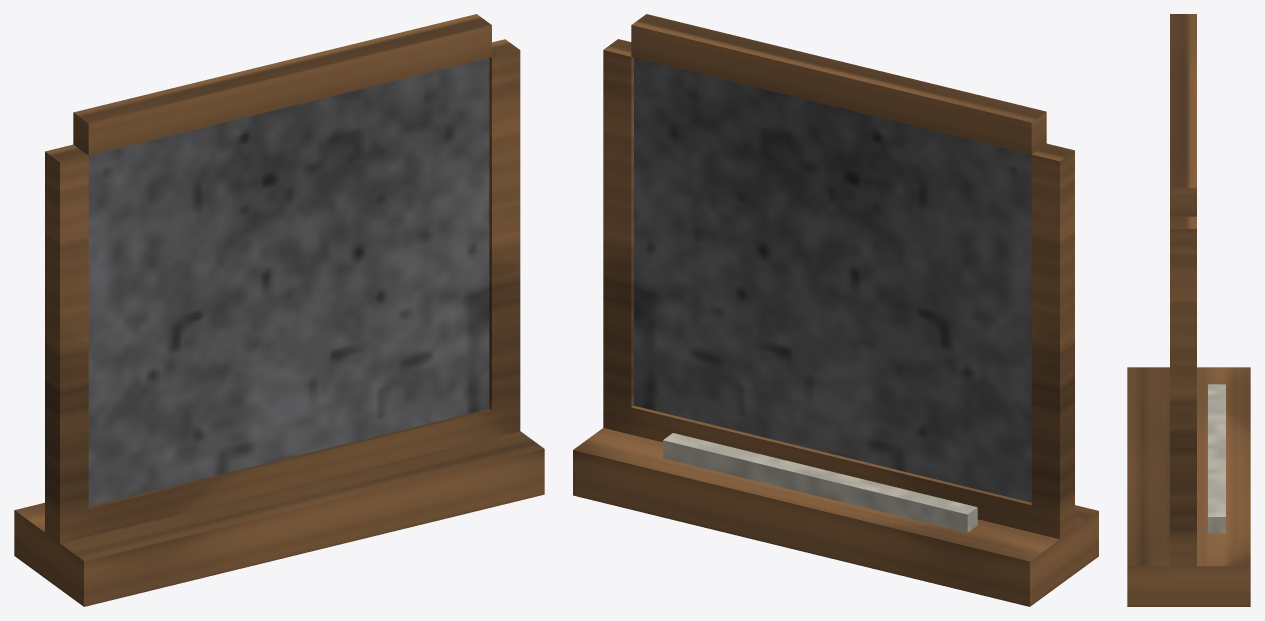
The model's file is school_slate.fbx.
3 renders of one model, left to right at view 1: azimuth 30°, elevation 25°; view 2: azimuth 150°, elevation 25°; view 3: azimuth 270°, elevation 25°, orthographic. The views are drawn at different scales.
Visible parts, largest first — view 1: school_slate; view 2: school_slate; view 3: school_slate.
Boxes of the visible parts, x1,y1,x2,y2 form: school_slate: (14, 14, 544, 606); school_slate: (573, 14, 1098, 606); school_slate: (1127, 14, 1250, 606).
Size of the model in its own units: 21 by 20 by 5.5.
